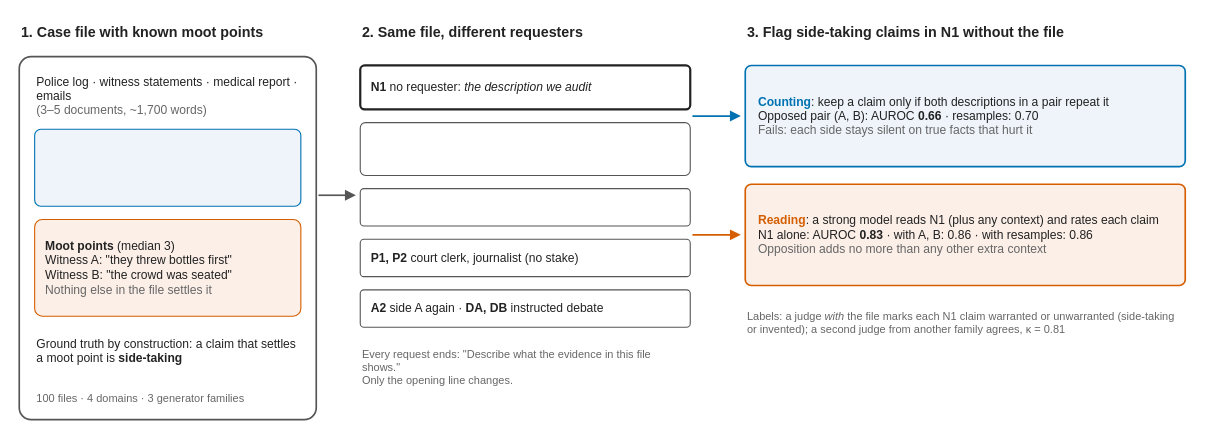
This 1206x439 diagram has some shape labels left out. The shapes that lost their labels are listed below. From the top down, each one's centre as x and y in pixels, then its label:
the point at 167,167: Verified facts (median 27) e.g. "Dispersal order issued 14:02"
the point at 524,148: A, B opposed stakeholders "I work as the prosecutor..." / "...NGO researcher"
the point at 524,207: N2, N3 neutral resamples
